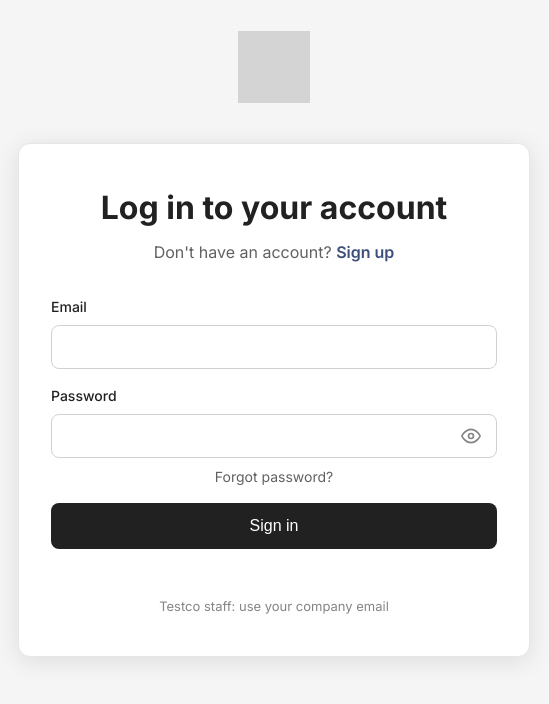
Test: Login Page › displays error message on failed login
Type "test@example.com" into the field labelled "Email".
click(274, 347); type("test@example.com")  # box 51,325 -> 497,369
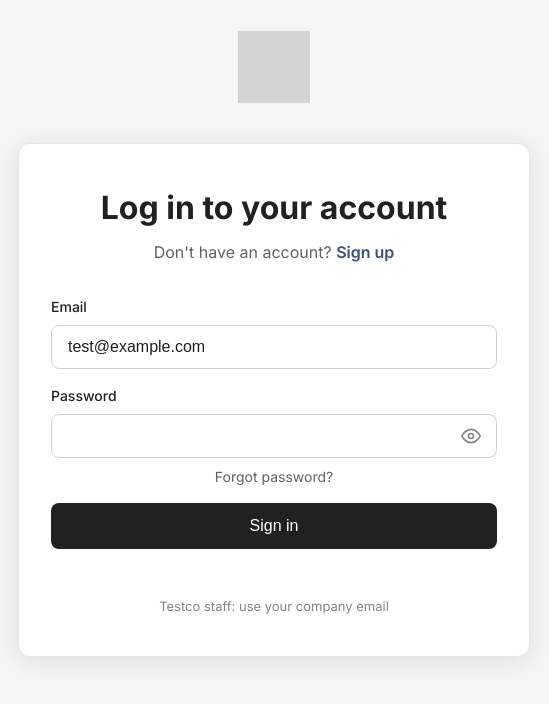
Type "password123" into the password field labelled "Password".
click(274, 436); type("password123")  # box 51,414 -> 497,458
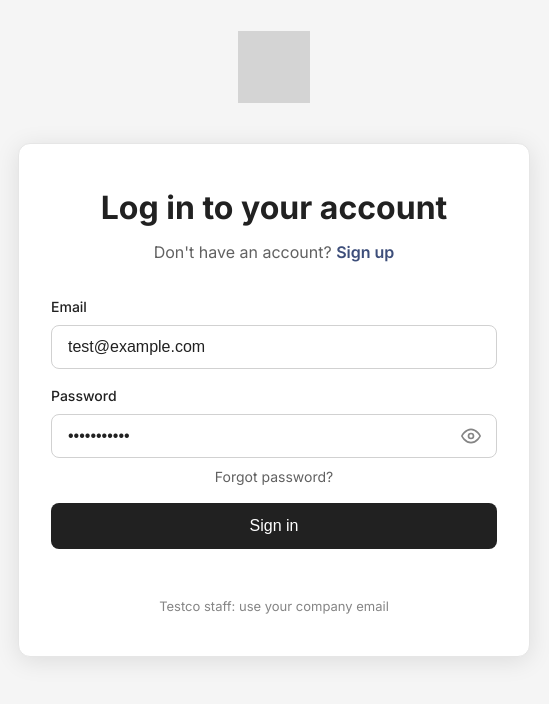
Click the button "Sign in".
click(274, 526)  # box 51,503 -> 497,549
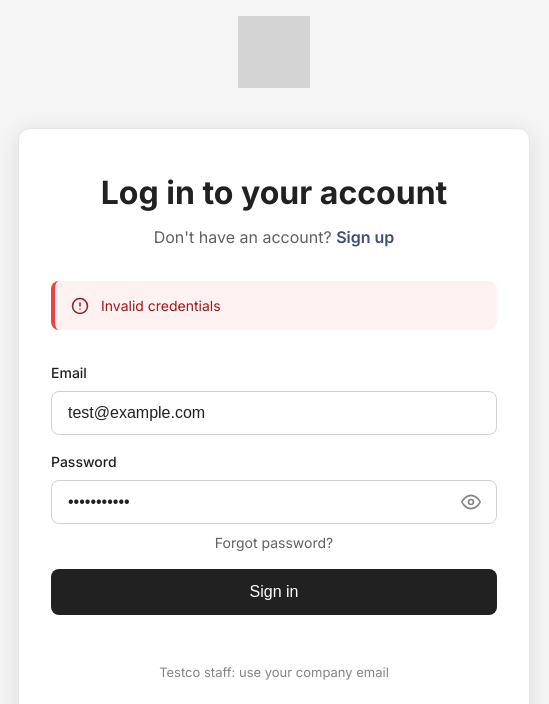
Now the text "Invalid credentials" is shown, box 101,295 -> 221,316
